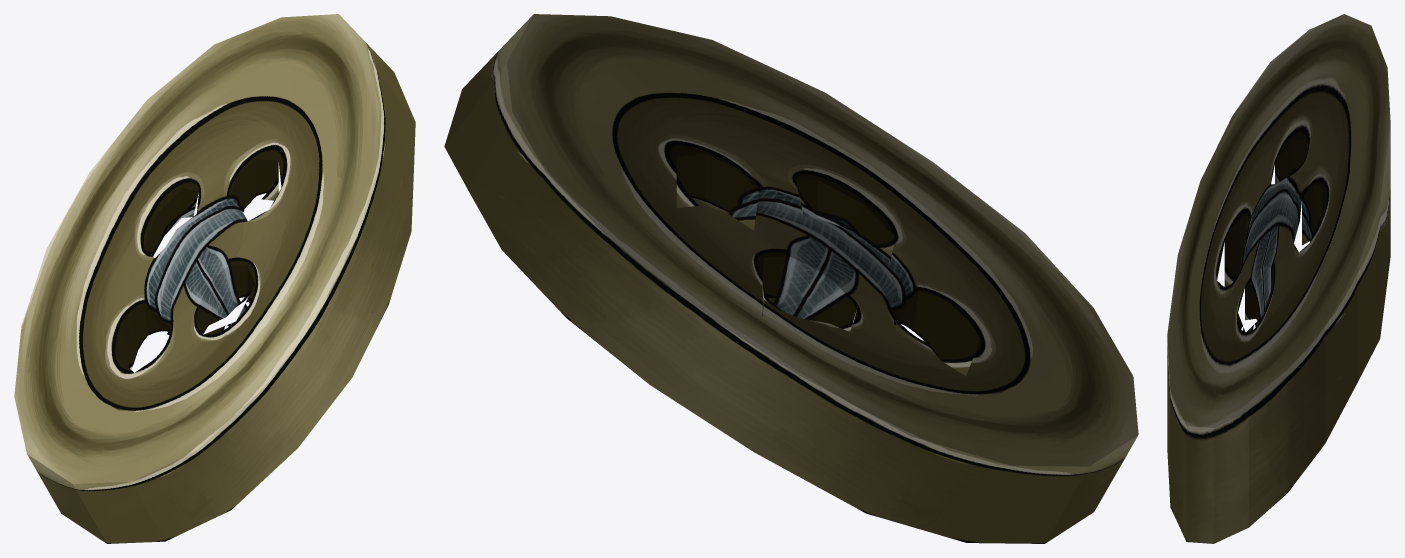
The model's file is mod0_boton.FBX.
The picture shows the model from 3 angles, left to right: view 1: azimuth 30°, elevation 25°; view 2: azimuth 150°, elevation 25°; view 3: azimuth 270°, elevation 25°; orthographic projection. The views are drawn at different scales.
Parts seen in each view (by area): view 1: Cylinder006; view 2: Cylinder006; view 3: Cylinder006.
Boxes of the visible parts, bbox=[...] form: Cylinder006: bbox=[14, 14, 415, 543]; Cylinder006: bbox=[444, 14, 1138, 543]; Cylinder006: bbox=[1167, 14, 1390, 543].
Size of the model in its own units: 326 by 279 by 98.92.
